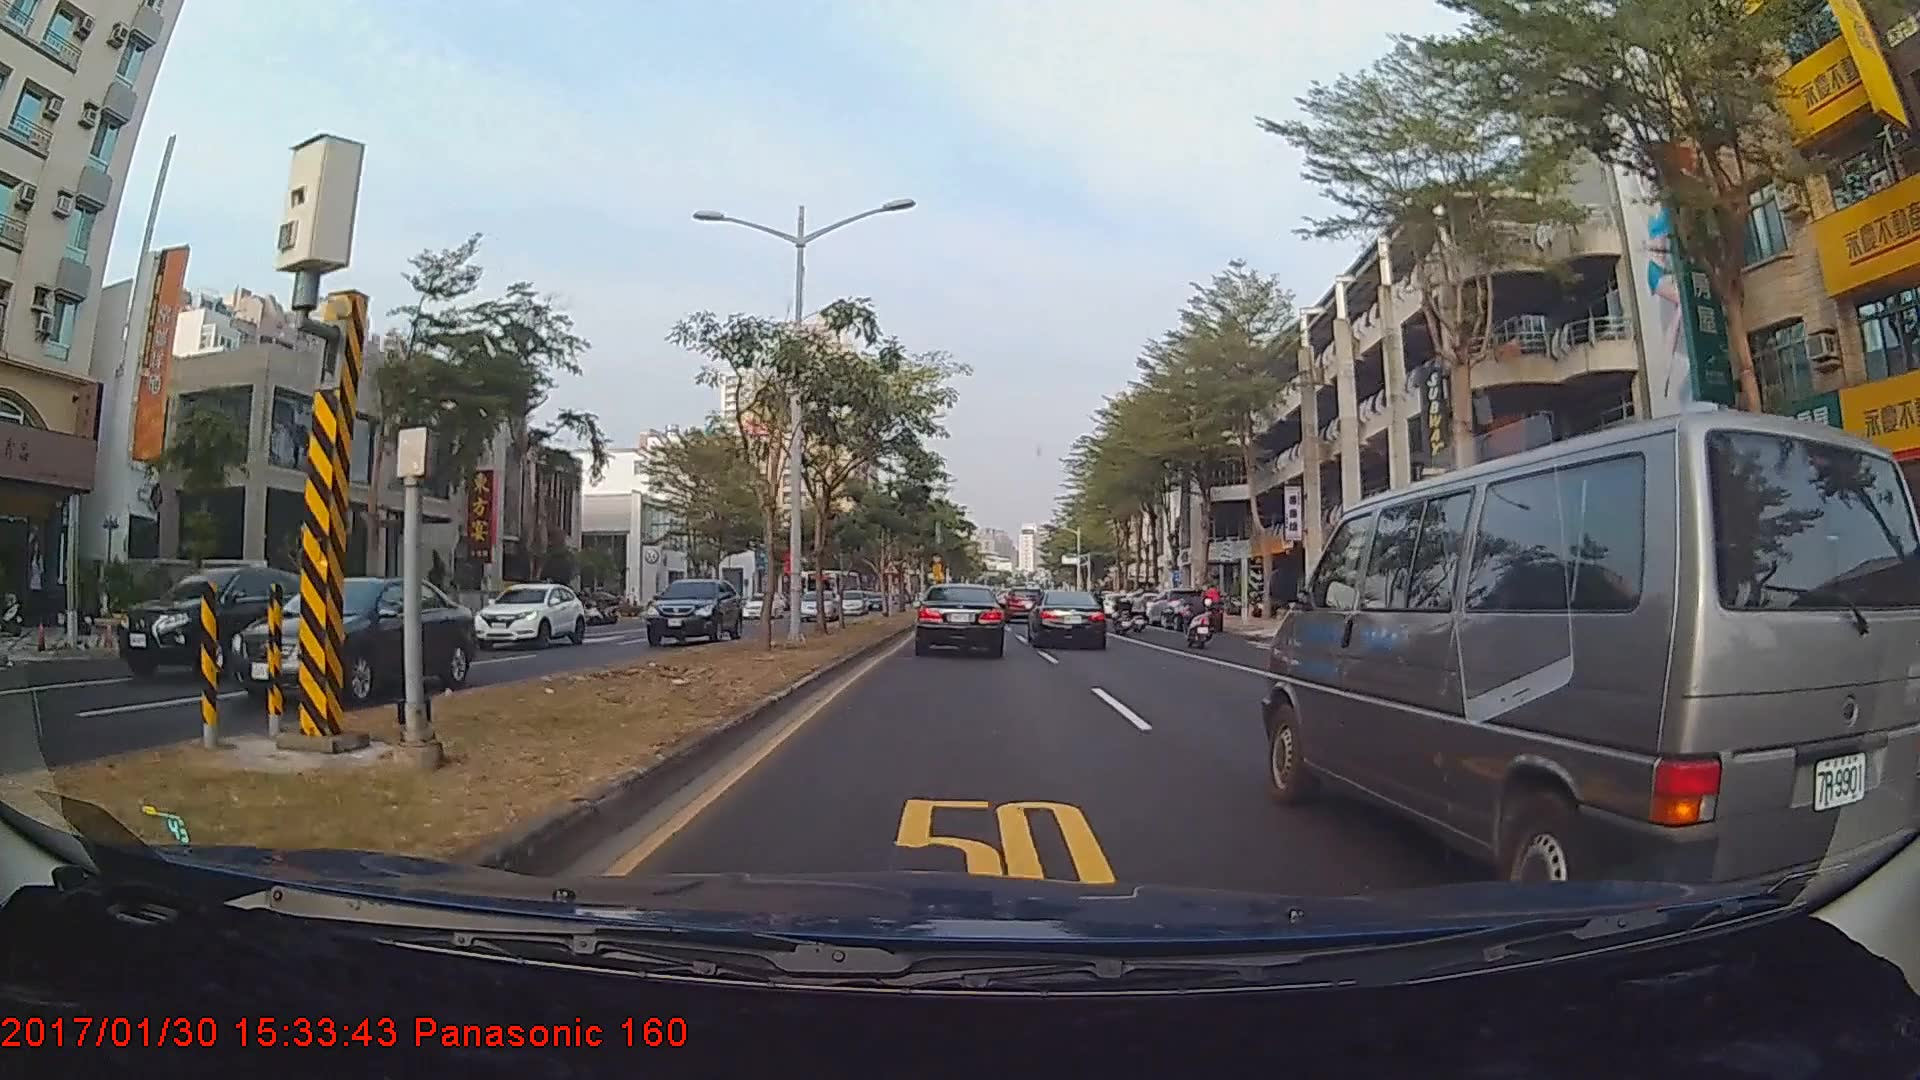rider: (1178, 581, 1216, 650)
vehicle: (1259, 409, 1894, 907), (220, 572, 477, 711), (117, 562, 326, 683), (471, 578, 584, 647), (641, 575, 740, 645), (915, 579, 1005, 656), (1030, 589, 1107, 650), (1157, 594, 1223, 632), (795, 591, 837, 623), (1003, 580, 1042, 614), (739, 589, 785, 617)
